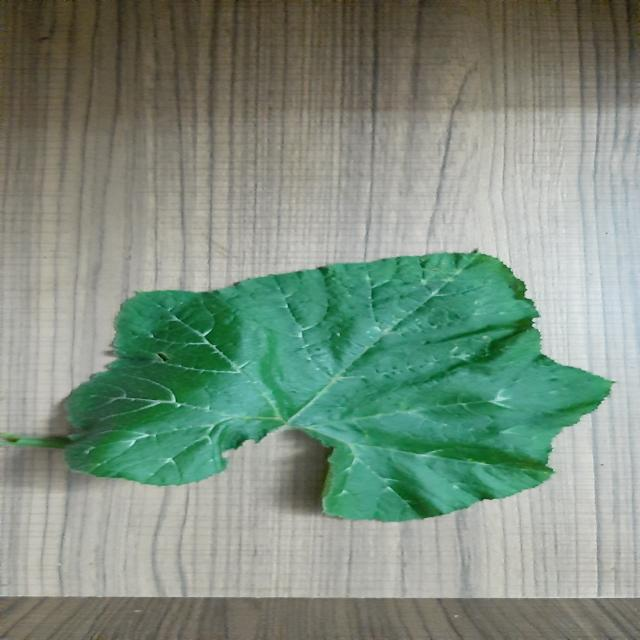pumpkin: (65, 254, 610, 521)
